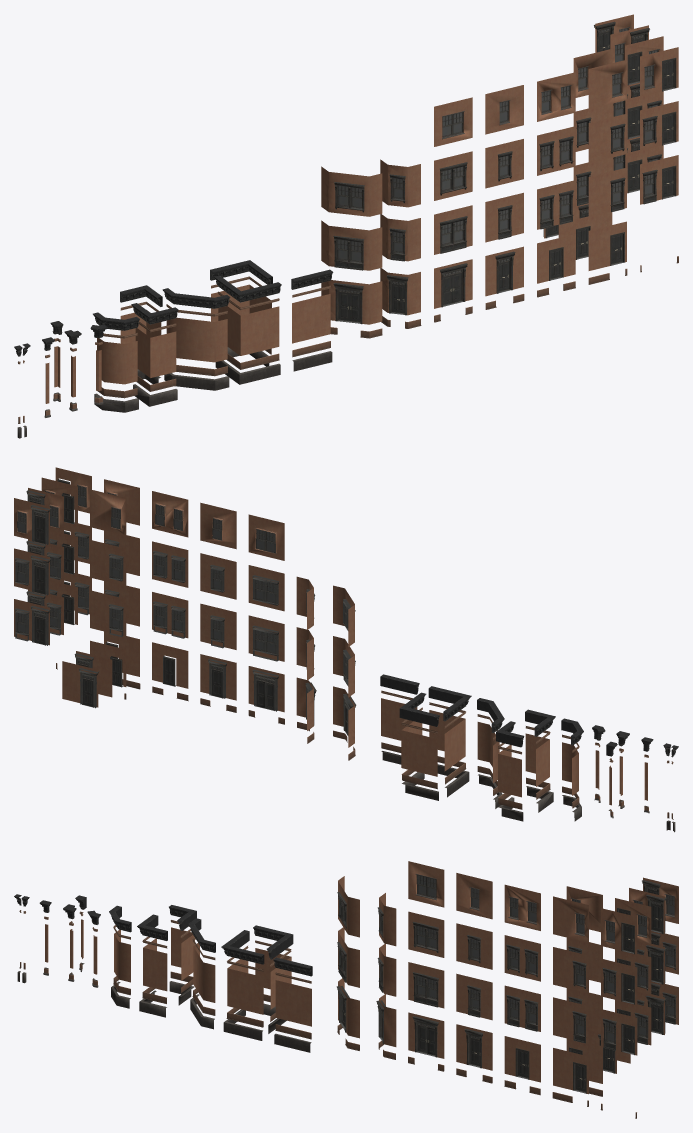
The model's file is modular_urban_apartments_facade.glb.
3 renders of one model, top to bottom at view 1: azimuth 30°, elevation 25°; view 2: azimuth 150°, elevation 25°; view 3: azimuth 330°, elevation 25°, orthographic. The views are drawn at different scales.
Parts seen in each view (by area): view 1: wall_door_centered_large_01, door_angled_small_01, door_window_small_09, crown_standard_angled_large_01; view 2: wall_door_centered_large_01, door_angled_small_01, door_window_small_09, crown_standard_angled_large_01; view 3: wall_door_centered_large_01, door_angled_small_01, door_window_small_09, crown_standard_angled_large_01.
Part boxes in pixels (<box>): wall_door_centered_large_01: <box>45,14,678,403</box>; door_angled_small_01: <box>333,21,676,324</box>; door_window_small_09: <box>17,27,678,438</box>; crown_standard_angled_large_01: <box>14,260,333,356</box>; wall_door_centered_large_01: <box>14,467,647,805</box>; door_angled_small_01: <box>14,479,356,735</box>; door_window_small_09: <box>17,484,675,832</box>; crown_standard_angled_large_01: <box>380,674,678,757</box>; wall_door_centered_large_01: <box>45,861,678,1094</box>; door_angled_small_01: <box>336,875,676,1093</box>; door_window_small_09: <box>17,874,674,1118</box>; crown_standard_angled_large_01: <box>14,894,312,976</box>.
Bounding box in the file's own units: 51.53 × 17 × 6.66.
Materials: 5 (5 with a texture image).
